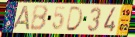3: (87, 7, 102, 34)
4: (102, 6, 117, 33)
5: (51, 6, 67, 32)
A: (11, 5, 31, 31)
B: (29, 5, 49, 32)
D: (65, 6, 84, 32)
